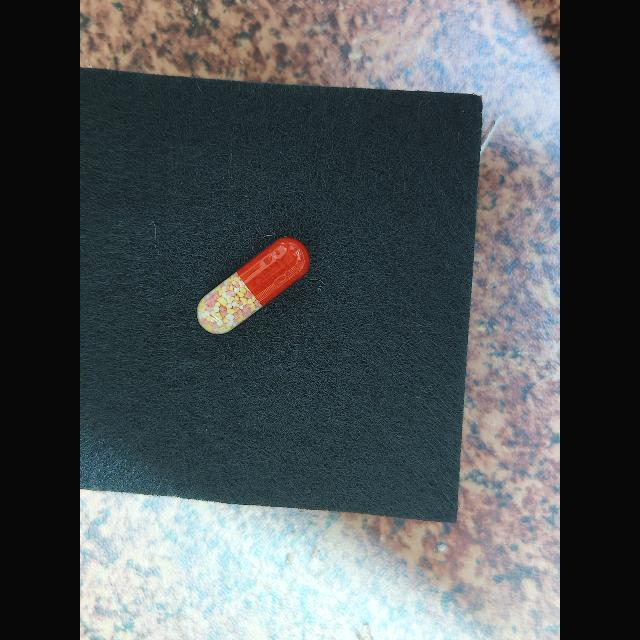Intact Capsule: (197, 237, 310, 334)
